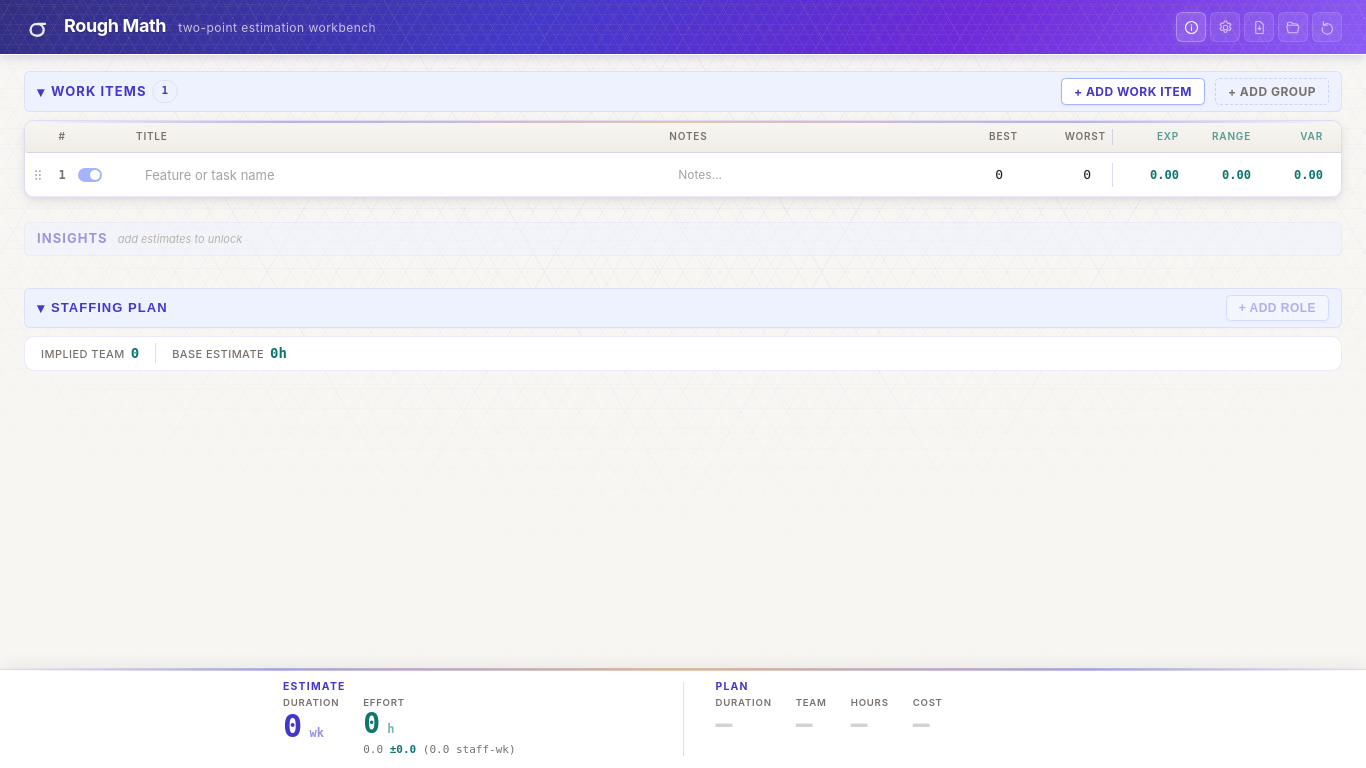
Test: App - UI Integration Tests › adds a work item when button is clicked
Click the button "+ Add Work Item" at (1133, 92), box 1061,78 -> 1205,105
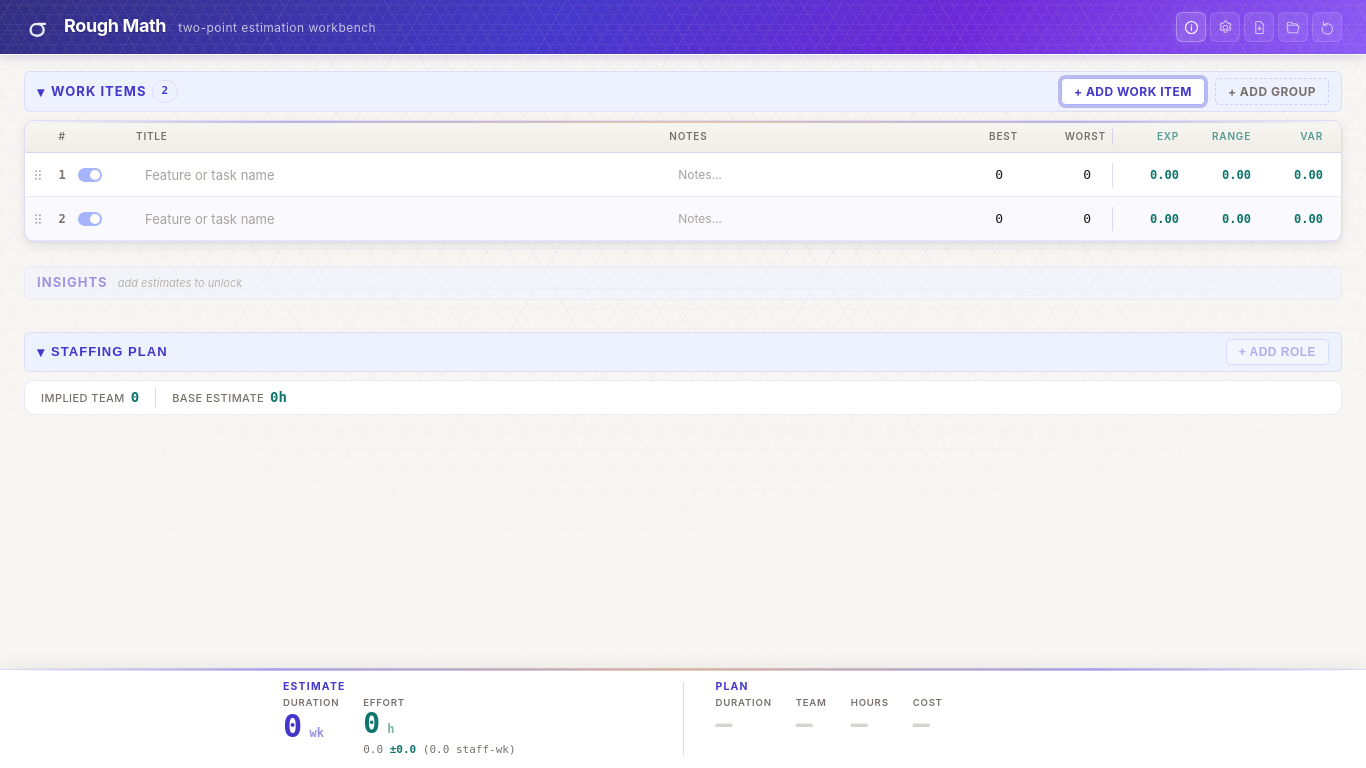
Expected: the field named "Title for work item 1" is shown, 136,158 -> 669,190
Now the field named "Title for work item 2" is shown, box 136,202 -> 669,234
